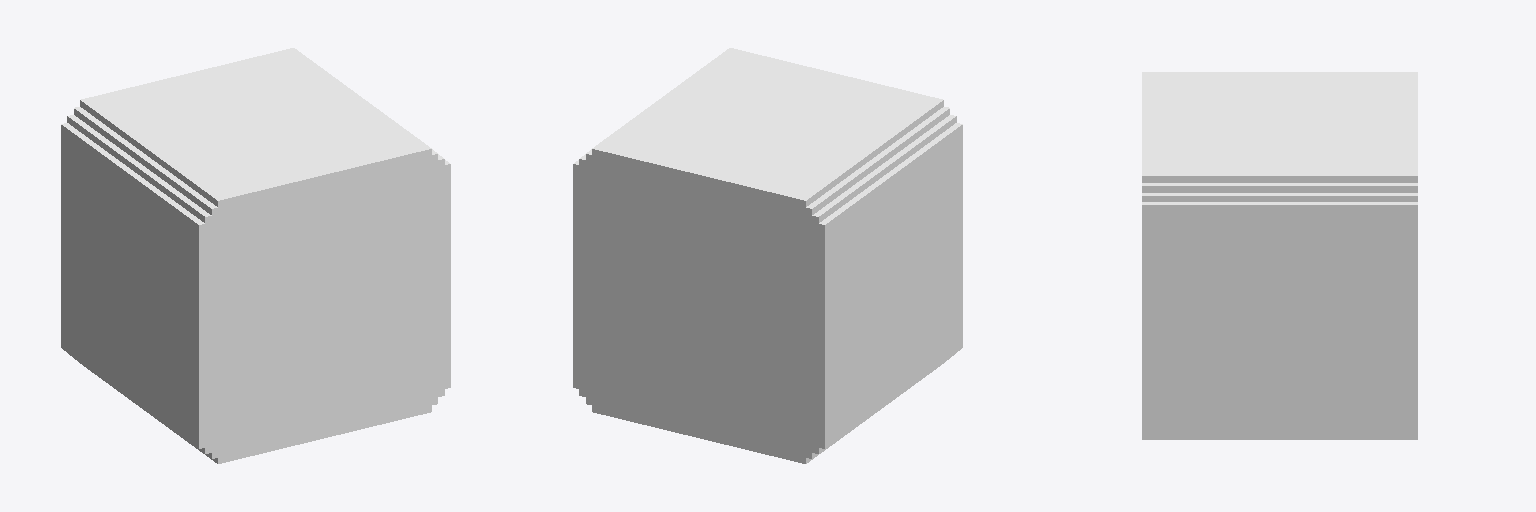
The model's file is icebox.obj.
3 views of the same model, side by side, from view 1: azimuth 30°, elevation 25°; view 2: azimuth 150°, elevation 25°; view 3: azimuth 270°, elevation 25° (orthographic).
Parts seen in each view (by area): view 1: icebox; view 2: icebox; view 3: icebox.
Part boxes in pixels (left/top/right/bottom): icebox: left=61, top=48, right=450, bottom=463; icebox: left=573, top=48, right=962, bottom=463; icebox: left=1142, top=72, right=1417, bottom=439.
Bounding box in the file's own units: 40 × 40 × 38.